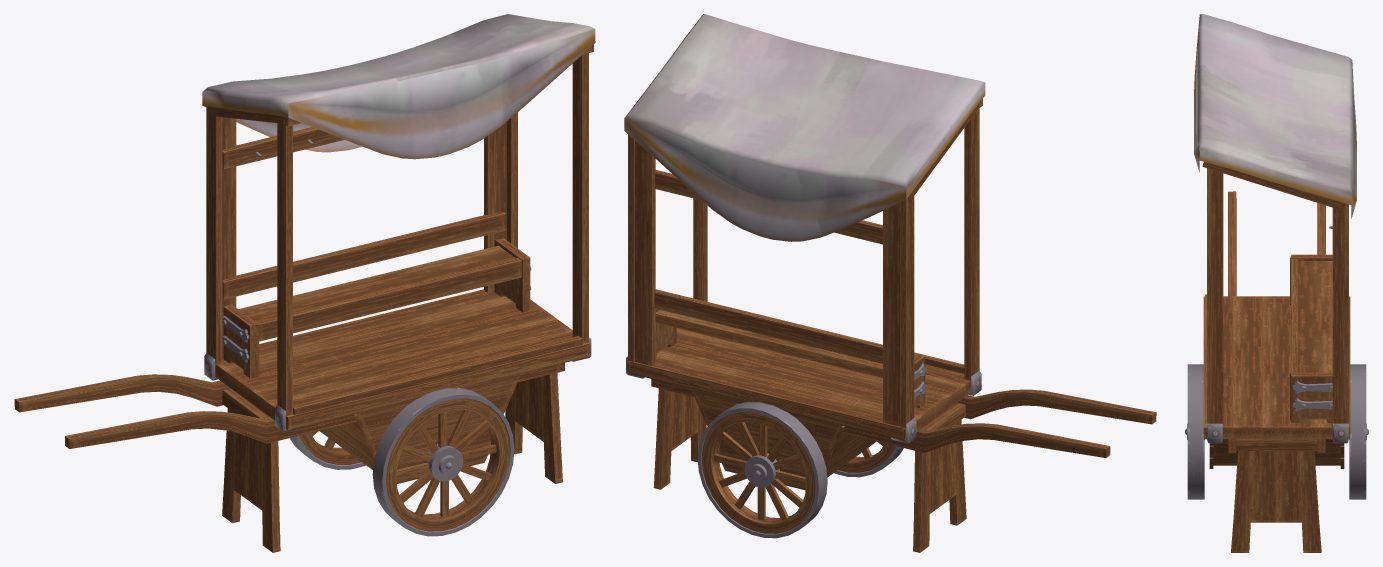
The picture shows the model from 3 angles, left to right: view 1: azimuth 30°, elevation 25°; view 2: azimuth 150°, elevation 25°; view 3: azimuth 270°, elevation 25°; orthographic projection. The views are drawn at different scales.
Parts seen in each view (by area): view 1: f8547e62fd3990b0a17590b45c34f3b8f1488b0c85139cc3a570a7849054; view 2: f8547e62fd3990b0a17590b45c34f3b8f1488b0c85139cc3a570a7849054; view 3: f8547e62fd3990b0a17590b45c34f3b8f1488b0c85139cc3a570a7849054.
Boxes of the visible parts, x1=… form: f8547e62fd3990b0a17590b45c34f3b8f1488b0c85139cc3a570a7849054: x1=14, y1=14, x2=595, y2=552; f8547e62fd3990b0a17590b45c34f3b8f1488b0c85139cc3a570a7849054: x1=624, y1=14, x2=1156, y2=552; f8547e62fd3990b0a17590b45c34f3b8f1488b0c85139cc3a570a7849054: x1=1185, y1=14, x2=1368, y2=552.
Size of the model in its own units: 3.02 by 2.63 by 1.06.
3 materials, 3 textured.
